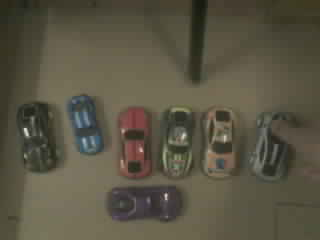Car: (249, 112, 291, 180), (17, 102, 56, 172), (200, 107, 236, 178), (107, 186, 181, 220), (160, 106, 194, 178), (118, 107, 152, 178), (67, 94, 103, 154)
